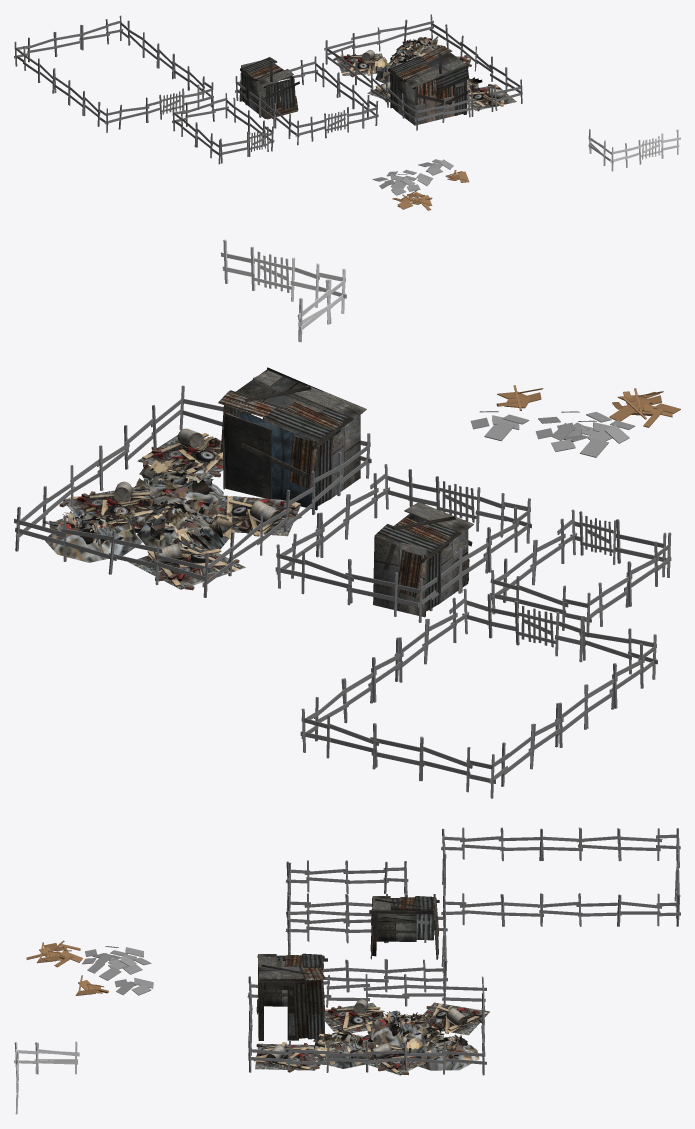
Rendered from DummyModels.fbx.
3 views of the same model, one above another, from view 1: azimuth 30°, elevation 25°; view 2: azimuth 150°, elevation 25°; view 3: azimuth 270°, elevation 25° (orthographic). The views are drawn at different scales.
Visible parts, largest first — view 1: hut, pasture_m, scrapyard, scrapyardpile, hutch, farmland_m, farmland_s, scrappile_m, Entrance, woodpile_m; view 2: scrapyardpile, hut, pasture_m, scrapyard, farmland_m, hutch, farmland_s, scrappile_m, Entrance, woodpile_m, scrappile_s; view 3: scrapyardpile, pasture_m, hut, scrapyard, hutch, farmland_m, farmland_s, scrappile_m, woodpile_m, scrappile_s.
Part boxes in pixels (x1=…): hut: x1=388, y1=45, x2=469, y2=125; pasture_m: x1=14, y1=15, x2=213, y2=132; scrapyard: x1=324, y1=14, x2=522, y2=130; scrapyardpile: x1=333, y1=36, x2=516, y2=111; hutch: x1=239, y1=57, x2=299, y2=119; farmland_m: x1=235, y1=56, x2=378, y2=145; farmland_s: x1=172, y1=93, x2=274, y2=164; scrappile_m: x1=372, y1=169, x2=432, y2=195; Entrance: x1=625, y1=129, x2=680, y2=167; woodpile_m: x1=392, y1=190, x2=432, y2=210; scrapyardpile: x1=43, y1=428, x2=301, y2=590; hut: x1=218, y1=367, x2=366, y2=510; pasture_m: x1=300, y1=588, x2=657, y2=798; scrapyard: x1=14, y1=385, x2=371, y2=597; farmland_m: x1=275, y1=464, x2=531, y2=622; hutch: x1=373, y1=502, x2=473, y2=617; farmland_s: x1=490, y1=509, x2=671, y2=637; scrappile_m: x1=535, y1=411, x2=635, y2=457; Entrance: x1=221, y1=239, x2=321, y2=307; woodpile_m: x1=609, y1=388, x2=680, y2=427; scrappile_s: x1=470, y1=411, x2=529, y2=441; scrapyardpile: x1=253, y1=999, x2=489, y2=1075; pasture_m: x1=441, y1=827, x2=680, y2=926; hut: x1=256, y1=953, x2=327, y2=1040; scrapyard: x1=247, y1=974, x2=486, y2=1075; hutch: x1=369, y1=894, x2=439, y2=959; farmland_m: x1=285, y1=909, x2=447, y2=992; farmland_s: x1=285, y1=860, x2=408, y2=926; scrappile_m: x1=82, y1=946, x2=151, y2=980; woodpile_m: x1=26, y1=940, x2=82, y2=967; scrappile_s: x1=114, y1=978, x2=153, y2=995.
Size of the model in its own units: 1570 by 199 by 1718.
